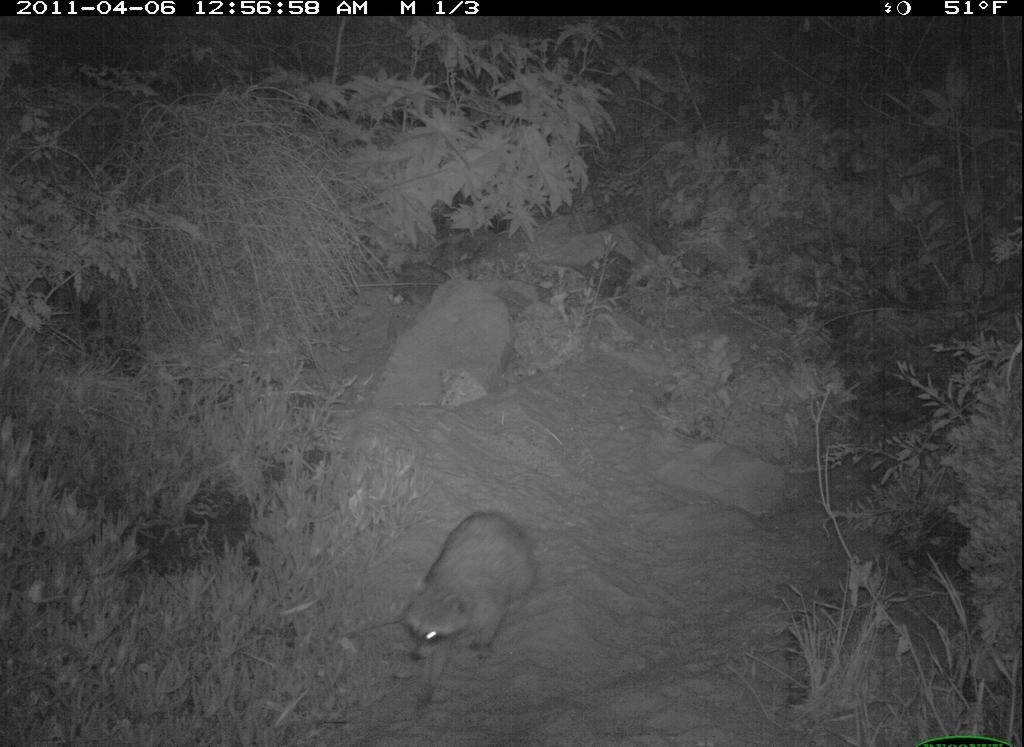raccoon: (382, 504, 550, 724)
